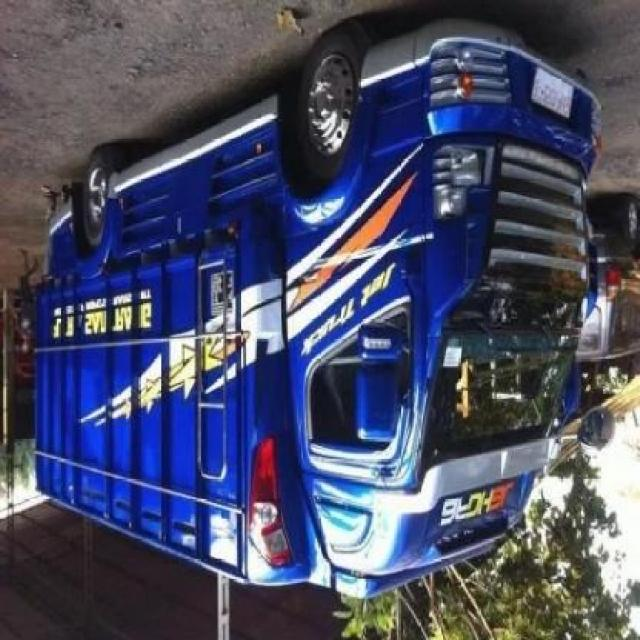truck: (36, 28, 602, 602)
